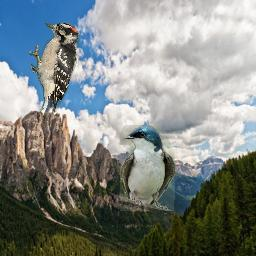Swallow: (120, 125, 175, 211)
Woodpecker: (29, 23, 80, 127)
